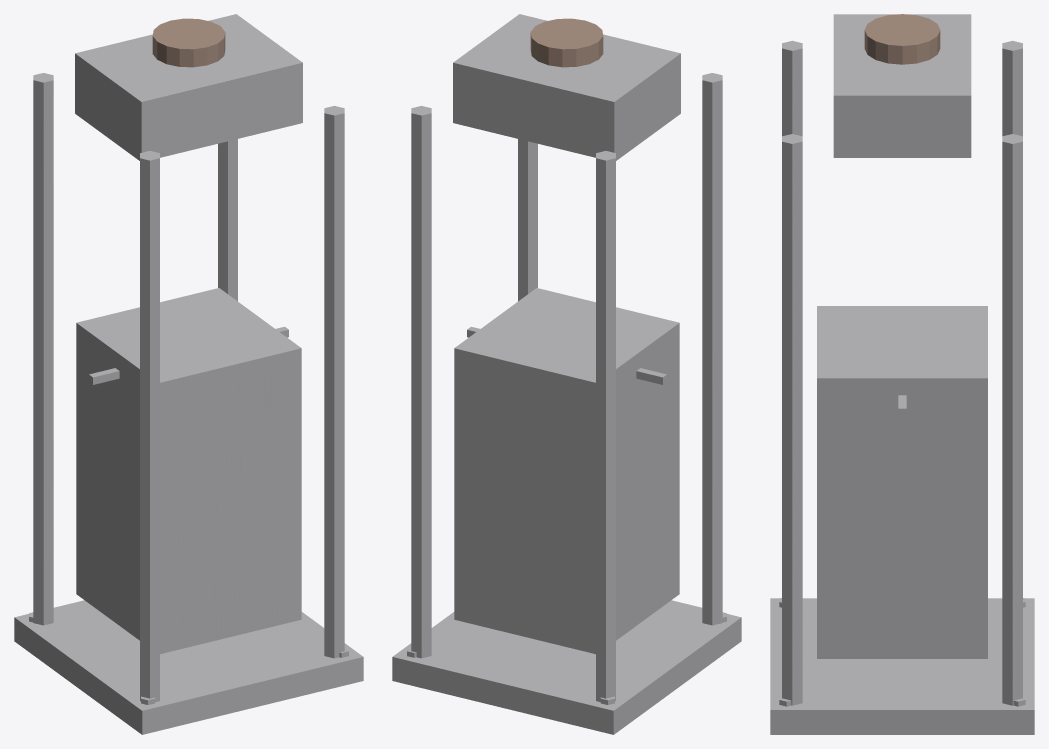
The model's file is elevator_common.glb.
3 views of the same model, side by side, from view 1: azimuth 30°, elevation 25°; view 2: azimuth 150°, elevation 25°; view 3: azimuth 270°, elevation 25° (orthographic). The views are drawn at different scales.
Visible parts, largest first — view 1: elevator, cage; view 2: elevator, cage; view 3: elevator, cage.
Boxes of the visible parts, bbox=[...] form: elevator: bbox=[14, 14, 363, 734]; cage: bbox=[76, 288, 301, 654]; elevator: bbox=[392, 14, 741, 734]; cage: bbox=[454, 288, 679, 654]; elevator: bbox=[770, 14, 1034, 734]; cage: bbox=[817, 306, 987, 658].
Size of the model in its own units: 1.54 by 4.16 by 1.54.
